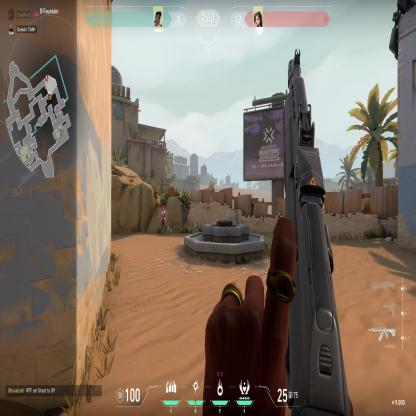enemy: (160, 204, 166, 235)
